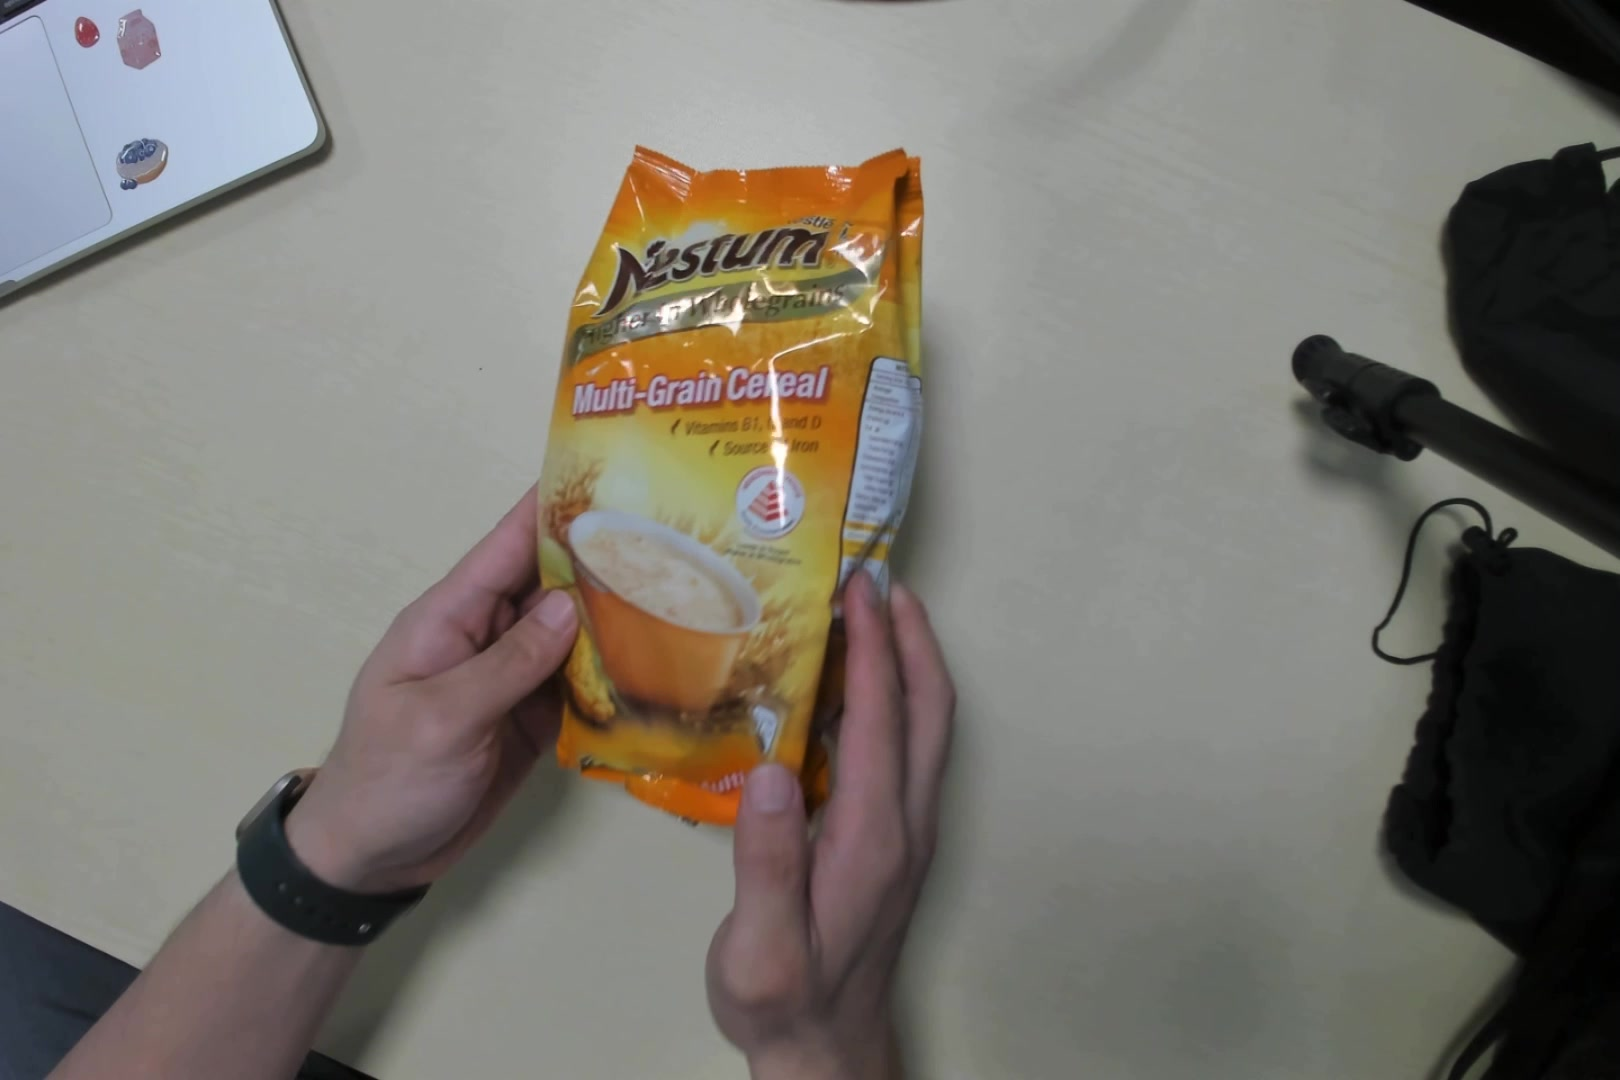RolledOatsInstantOatmeal_200-299g_NonHalal_Healthy: (535, 141, 934, 820)
